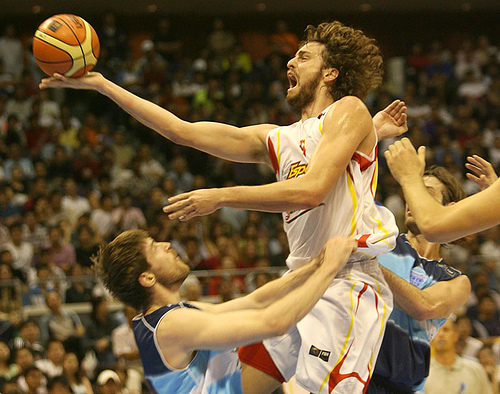basketball: (32, 12, 101, 77)
